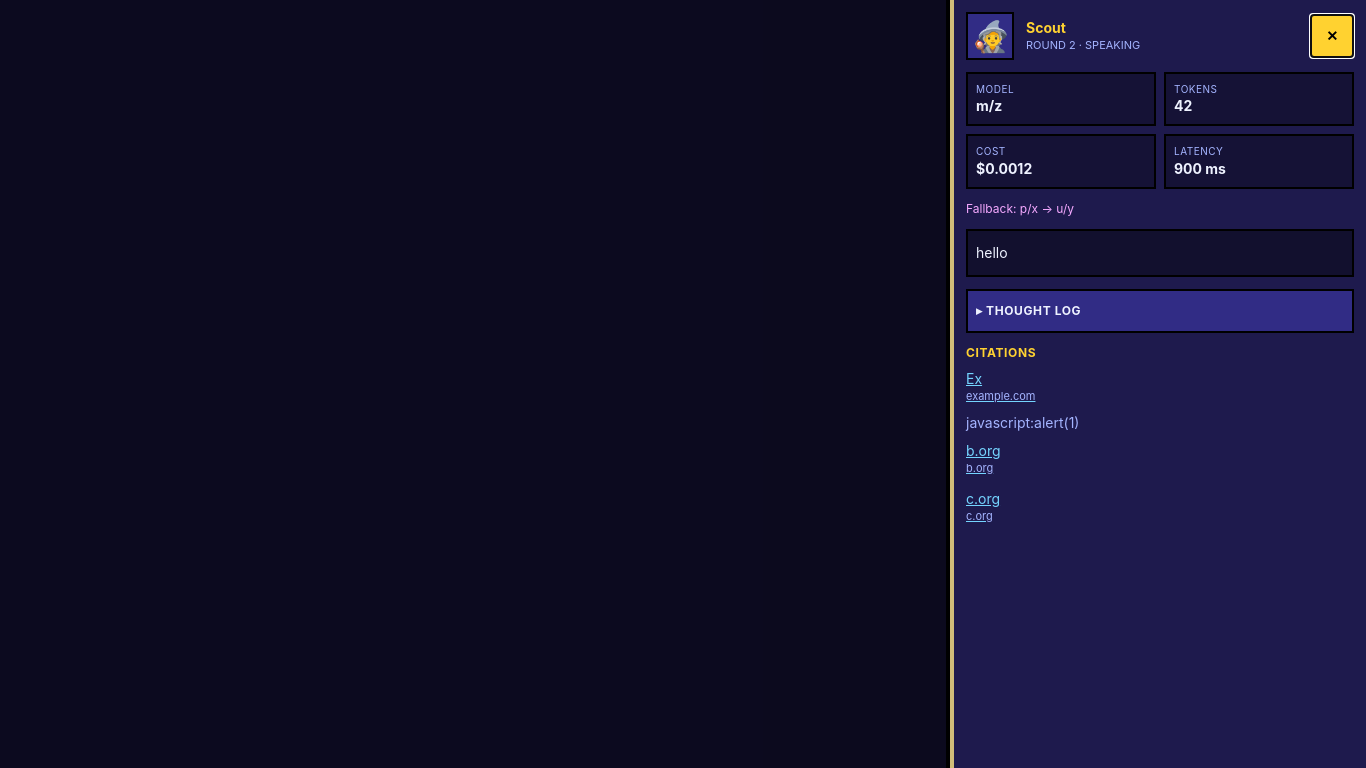
InspectPanel › shows stats, collapsed thought log, and safe citations
Check: the text "$0.0012" is shown, box [976, 160, 1032, 177]
Check: the text "900 ms" is shown, box [1174, 160, 1226, 177]
Click the button "▸ Thought log" at (1032, 310), box [966, 289, 1354, 333]
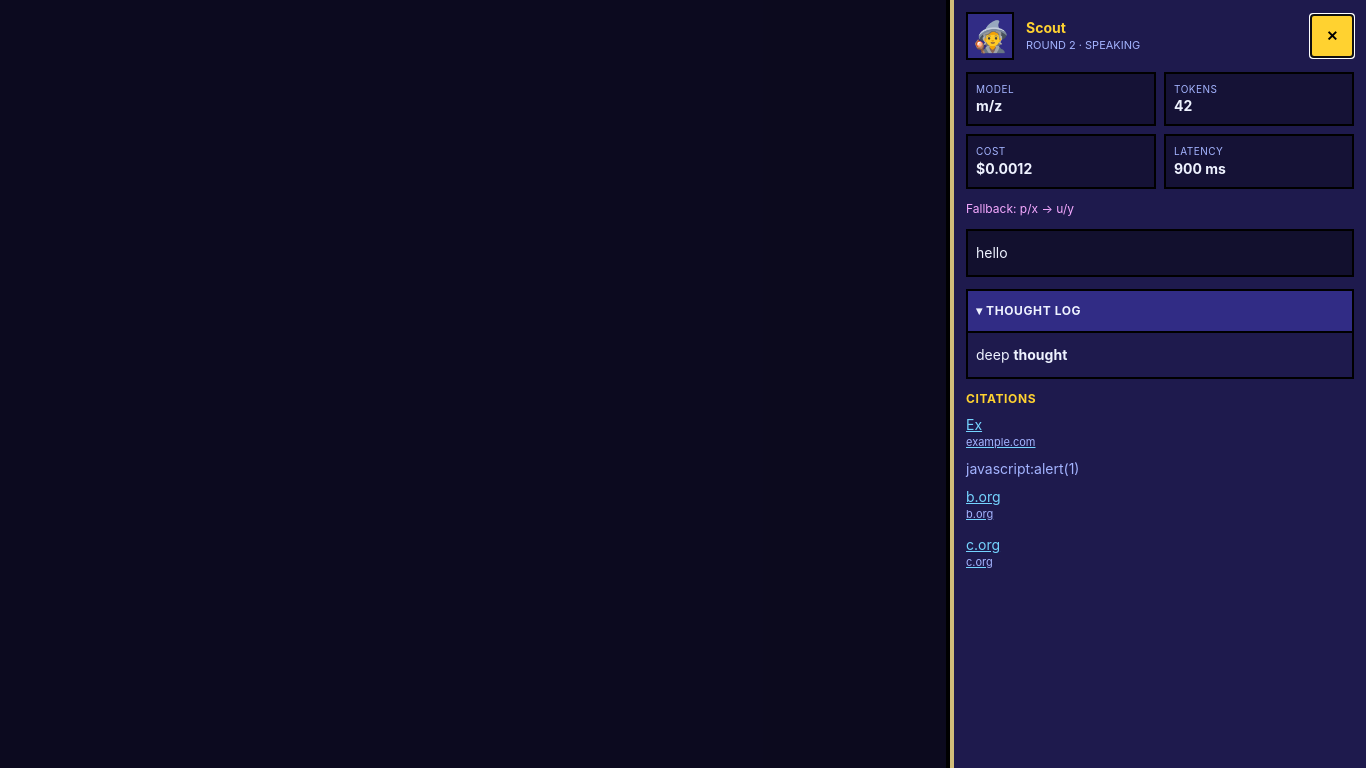
Check: the text "thought" is shown, box [1013, 346, 1067, 363]
